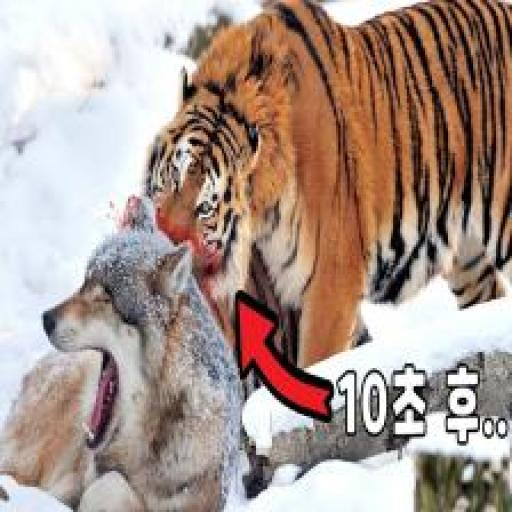wolf: (4, 210, 255, 512)
